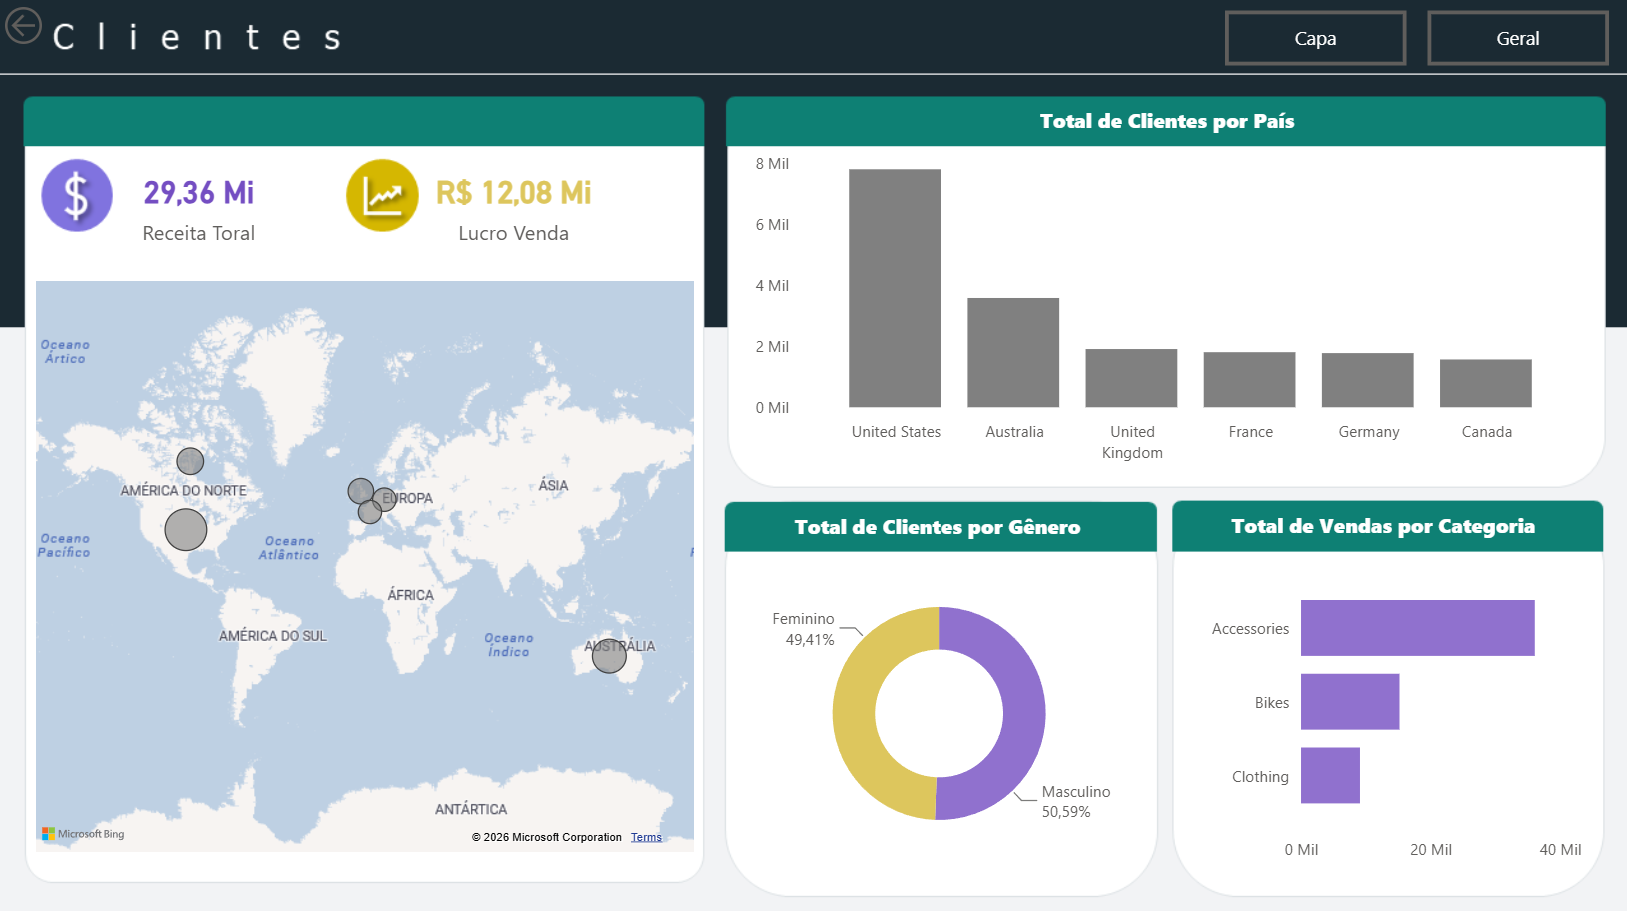

This screenshot's page, from the dashboard's own definition file:
{"tool":"powerbi","page":{"name":"CLIENTES","canvas":[1280,720],"ordinal":2},"visuals":[{"type":"card","title":"Receita Total","fields":{"Values":["Sum(RESULTADOS_ADW.RECEITA VENDA)"]},"box":[43.1,113.6,227.2,92],"z":0},{"type":"card","title":"Receita Total","fields":{"Values":["Sum(RESULTADOS_ADW.LUCRO VENDA)"]},"box":[290.5,113.6,227.2,92],"z":1000},{"type":"map","fields":{"Category":["RESULTADOS_ADW.PAÍS"],"Size":["Sum(RESULTADOS_ADW.QTD. VENDIDA)"]},"box":[24.5,215.5,526.4,458.2],"z":2000},{"type":"actionButton","box":[0,0,100,40],"z":3000},{"type":"clusteredColumnChart","fields":{"Category":["RESULTADOS_ADW.PAÍS"],"Y":["Count(RESULTADOS_ADW.ID CLIENTE)"]},"box":[588.2,113.6,658.7,256],"z":4000},{"type":"textbox","box":[755,77.7,323.6,34.5],"z":5000},{"type":"donutChart","fields":{"Category":["RESULTADOS_ADW.SEXO"],"Y":["Count(RESULTADOS_ADW.ID CLIENTE)"]},"box":[588.2,434.3,299.1,250.2],"z":6000},{"type":"textbox","box":[575.2,396.9,323.6,34.5],"z":7000},{"type":"clusteredBarChart","fields":{"Category":["RESULTADOS_ADW.CATEGORIA PRODUTO"],"Y":["Sum(RESULTADOS_ADW.QTD. VENDIDA)"]},"box":[937.6,434.3,309.2,250.2],"z":8000},{"type":"textbox","box":[914.6,395.5,349.5,34.5],"z":9000},{"type":"actionButton","box":[962.1,8.6,142.4,43.1],"z":10000},{"type":"actionButton","box":[1121.7,8.6,142.4,43.1],"z":11000}]}

Visuals, with their boxes on the page's 1280x720 design canvas (x1, y1, x2, y2). These are canvas units, not pixel positions in the 1627x911 screenshot, which may show the page scaled, cropped or inside an application window:
"Receita Total" card: l=43, t=114, r=270, b=206
"Receita Total" card: l=290, t=114, r=518, b=206
map - RESULTADOS_ADW.PAÍS x Sum(RESULTADOS_ADW.QTD. VENDIDA): l=24, t=216, r=551, b=674
actionButton: l=0, t=0, r=100, b=40
clusteredColumnChart - RESULTADOS_ADW.PAÍS x Count(RESULTADOS_ADW.ID CLIENTE): l=588, t=114, r=1247, b=370
textbox: l=755, t=78, r=1079, b=112
donutChart - RESULTADOS_ADW.SEXO x Count(RESULTADOS_ADW.ID CLIENTE): l=588, t=434, r=887, b=684
textbox: l=575, t=397, r=899, b=431
clusteredBarChart - RESULTADOS_ADW.CATEGORIA PRODUTO x Sum(RESULTADOS_ADW.QTD. VENDIDA): l=938, t=434, r=1247, b=684
textbox: l=915, t=396, r=1264, b=430
actionButton: l=962, t=9, r=1104, b=52
actionButton: l=1122, t=9, r=1264, b=52
